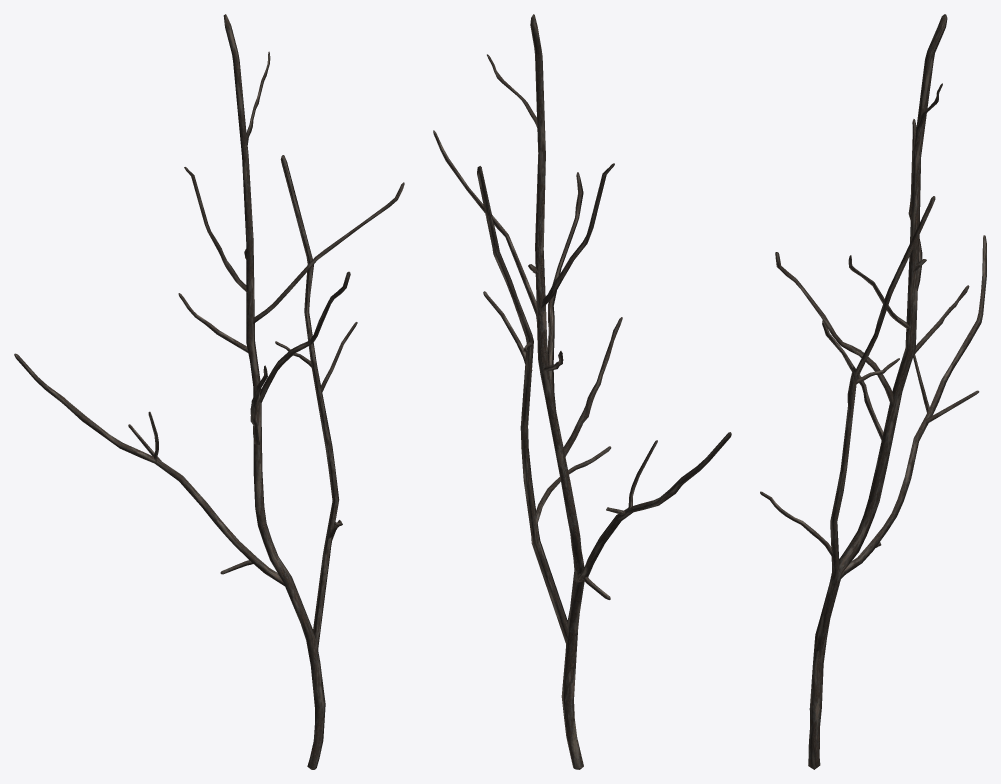
File: Branch_deadwood3_LOD2.fbx
3 renders of one model, left to right at view 1: azimuth 30°, elevation 25°; view 2: azimuth 150°, elevation 25°; view 3: azimuth 270°, elevation 25°, orthographic. The views are drawn at different scales.
Visible parts, largest first — view 1: polySurface11; view 2: polySurface11; view 3: polySurface11.
Boxes of the visible parts, left/top/right/bottom form: polySurface11: left=14, top=14, right=404, bottom=769; polySurface11: left=433, top=14, right=731, bottom=769; polySurface11: left=760, top=14, right=986, bottom=769.
Size of the model in its own units: 140 by 293 by 81.29.
